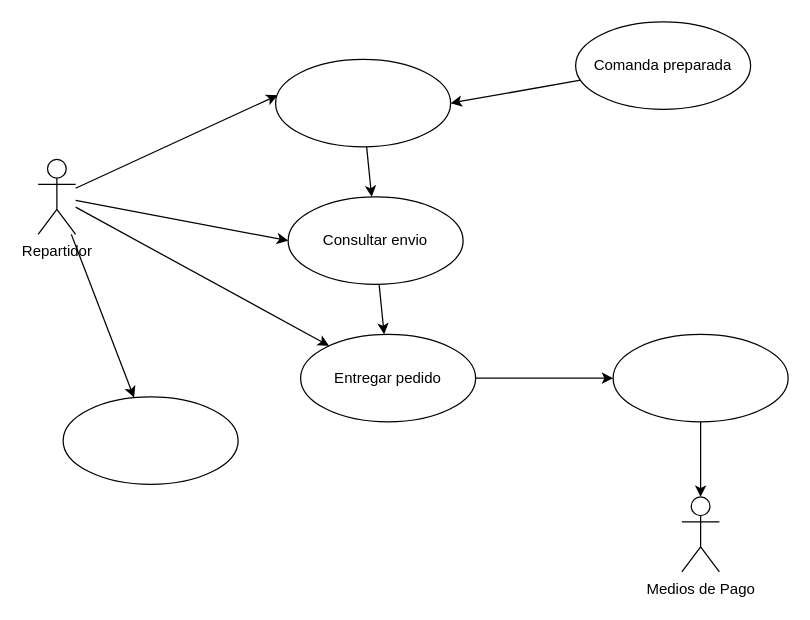
The diagram is 810 pixels wide and 620 high, and some of its shapes have lost their labels. The box of each missing label's shape, as (x1, y1, x2, y2) in pixels:
Mapas y Rutas: (62, 396, 238, 484)
Pago electronico: (612, 333, 788, 422)
Rocoger pedido: (274, 58, 451, 147)
